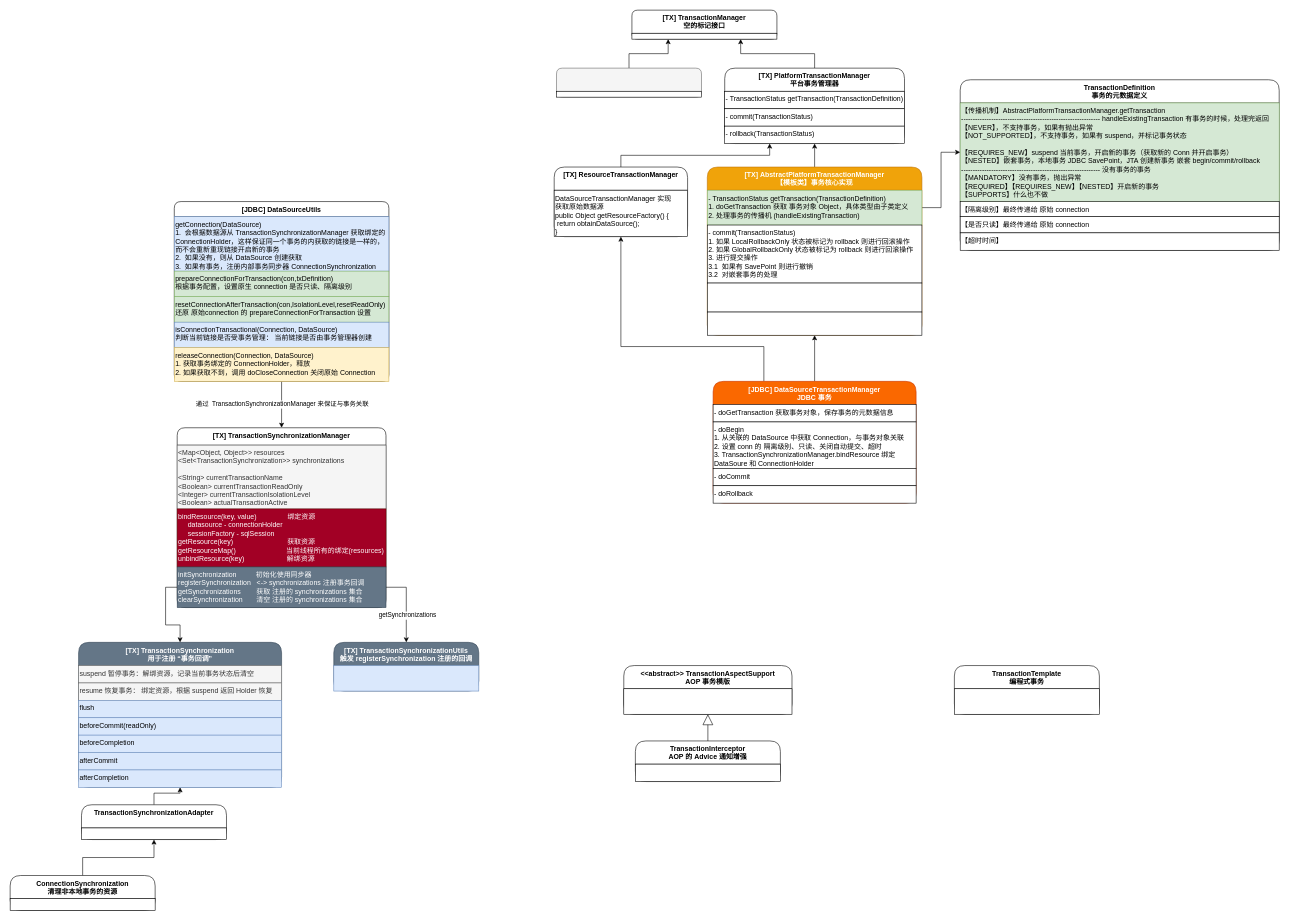
Some shapes in this 1289 by 920 pixel diagram are drawn without their labels. The centre of each missing label's shape, as x and y in pixels:
- rollback(TransactionStatus) 1. 如果有检查点，回滚到检查点 2. 执行回滚: point (814, 297)
[TX] ReactiveTransactionManager Reactive 事务支持: point (629, 82)
invokeWithinTransaction 定义了事务的执行流程 getTransaction / commit / rollback: point (707, 701)
trigger*： 触发注册的 TransactionSynchronization 回调: point (406, 678)
核心逻辑的调用 父类 invokeWithinTransaction: point (707, 773)
模板方法：【doGetTransaction】【doBegin】 【doCommit】【doRollback】: point (814, 323)
